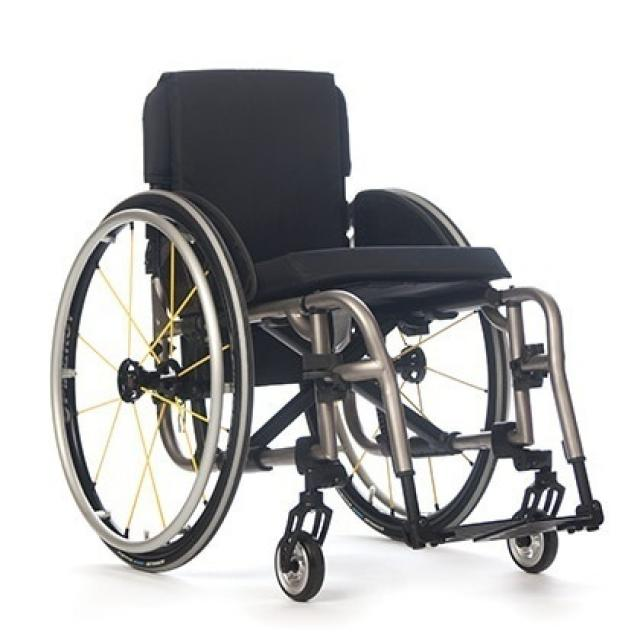wheelchair: (35, 55, 640, 616)
